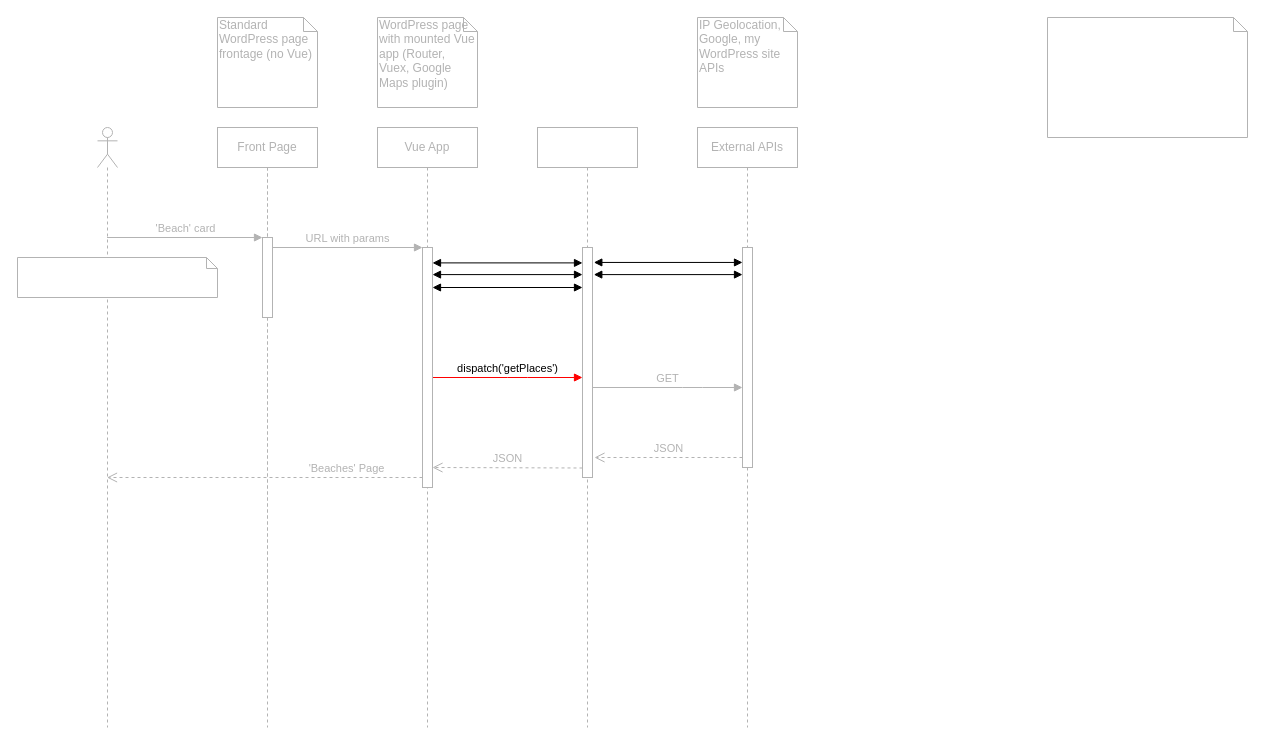
This 1265x745 diagram has some shape labels left out. Here are the shapes that lost their labels. From the top down, the box of each, then its label:
(1046, 16, 1248, 138): Note
(16, 256, 218, 298): site.com/app/#/?category=beach
(536, 126, 638, 728): Vuex Store
